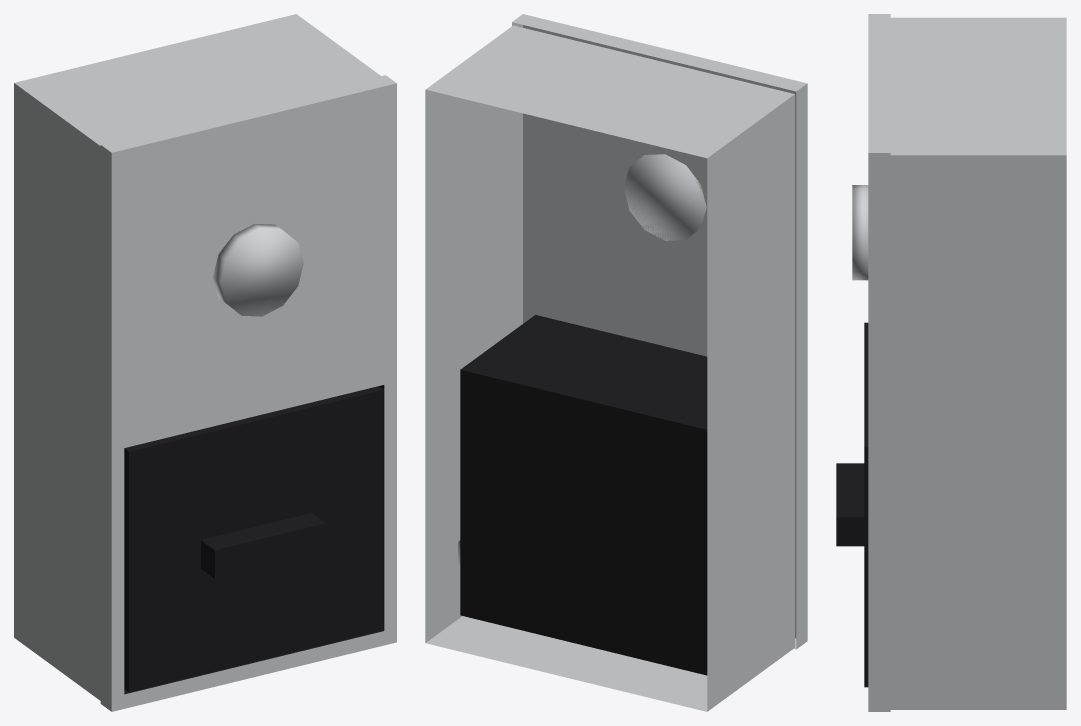
File: C9300L-STACK-KIT2.far.glb
3 views of the same model, side by side, from view 1: azimuth 30°, elevation 25°; view 2: azimuth 150°, elevation 25°; view 3: azimuth 270°, elevation 25° (orthographic).
Parts seen in each view (by area): view 1: C9300L-STACK-KIT2_Body_far, cover:port:StackPort{module}; view 2: C9300L-STACK-KIT2_Body_far; view 3: C9300L-STACK-KIT2_Body_far, cover:port:StackPort{module}.
Part boxes in pixels (<box>): C9300L-STACK-KIT2_Body_far: <box>14,14,396,711</box>; cover:port:StackPort{module}: <box>124,386,383,692</box>; C9300L-STACK-KIT2_Body_far: <box>425,14,807,711</box>; C9300L-STACK-KIT2_Body_far: <box>852,14,1066,711</box>; cover:port:StackPort{module}: <box>836,322,868,687</box>.
Bounding box in the file's own units: 0.0206 × 0.0386 × 0.0144.
1 material, 1 textured.
